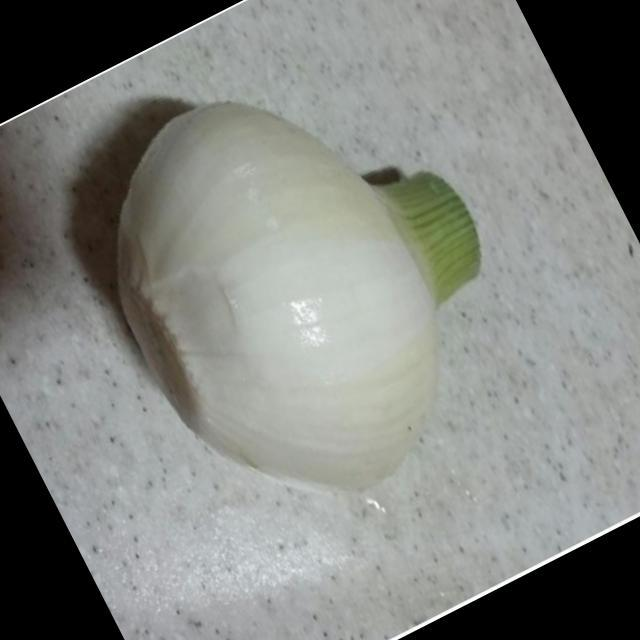Onion: (112, 102, 483, 483)
